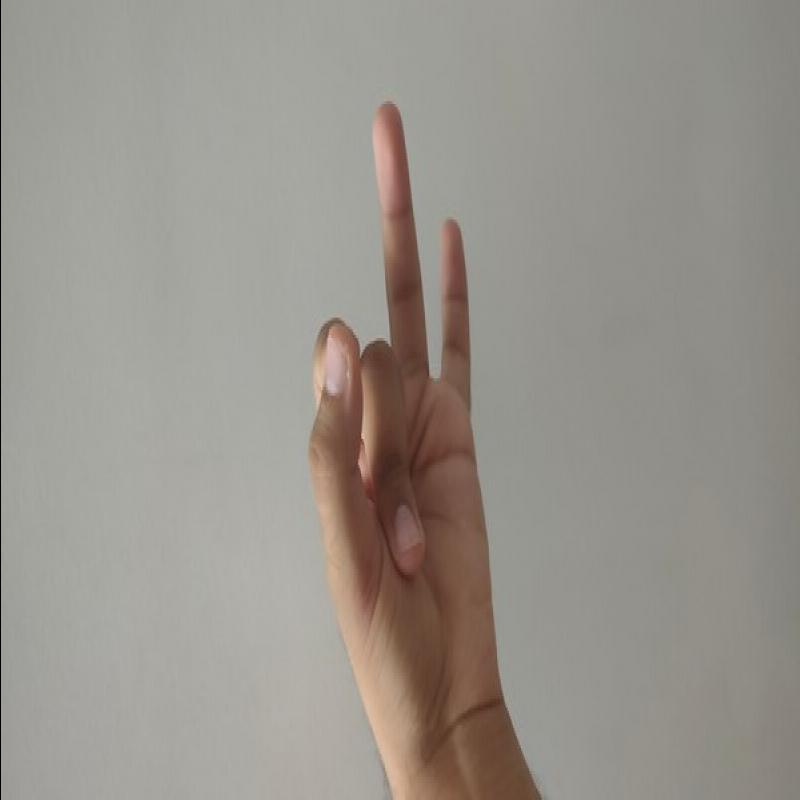Katakam: (262, 92, 535, 766)
